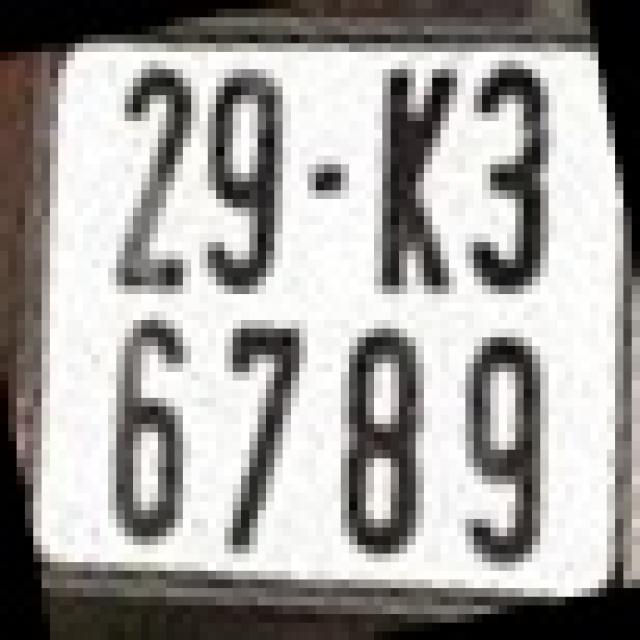2: (116, 69, 192, 294)
3: (474, 70, 548, 286)
6: (108, 320, 191, 545)
7: (224, 321, 300, 554)
8: (341, 328, 424, 554)
9: (466, 337, 548, 562), (208, 70, 282, 286)
K: (374, 61, 449, 294)
